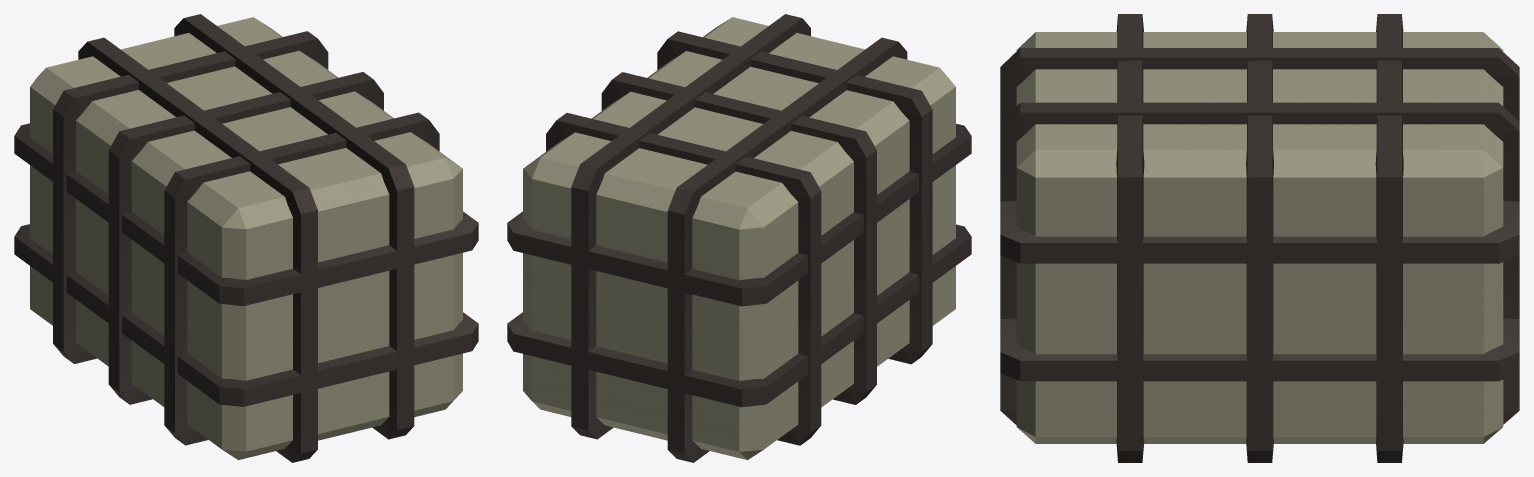
The model's file is Cargo_1.fbx.
3 views of the same model, side by side, from view 1: azimuth 30°, elevation 25°; view 2: azimuth 150°, elevation 25°; view 3: azimuth 270°, elevation 25° (orthographic). The views are drawn at different scales.
Visible parts, largest first — view 1: polySurface9734; view 2: polySurface9734; view 3: polySurface9734.
Part boxes in pixels (x1=…): polySurface9734: x1=14, y1=14, x2=478, y2=462; polySurface9734: x1=507, y1=14, x2=971, y2=462; polySurface9734: x1=1000, y1=14, x2=1519, y2=462.
Bounding box in the file's own units: 165 × 161 × 240.
